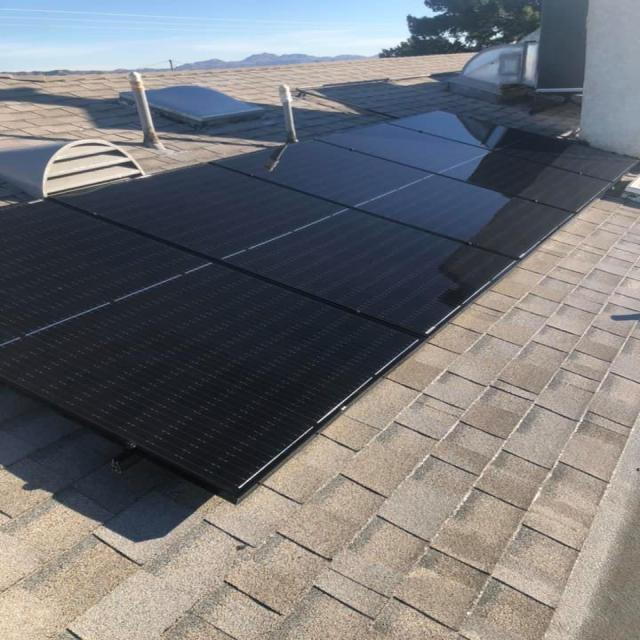clean-solar-panel: (2, 111, 632, 500)
